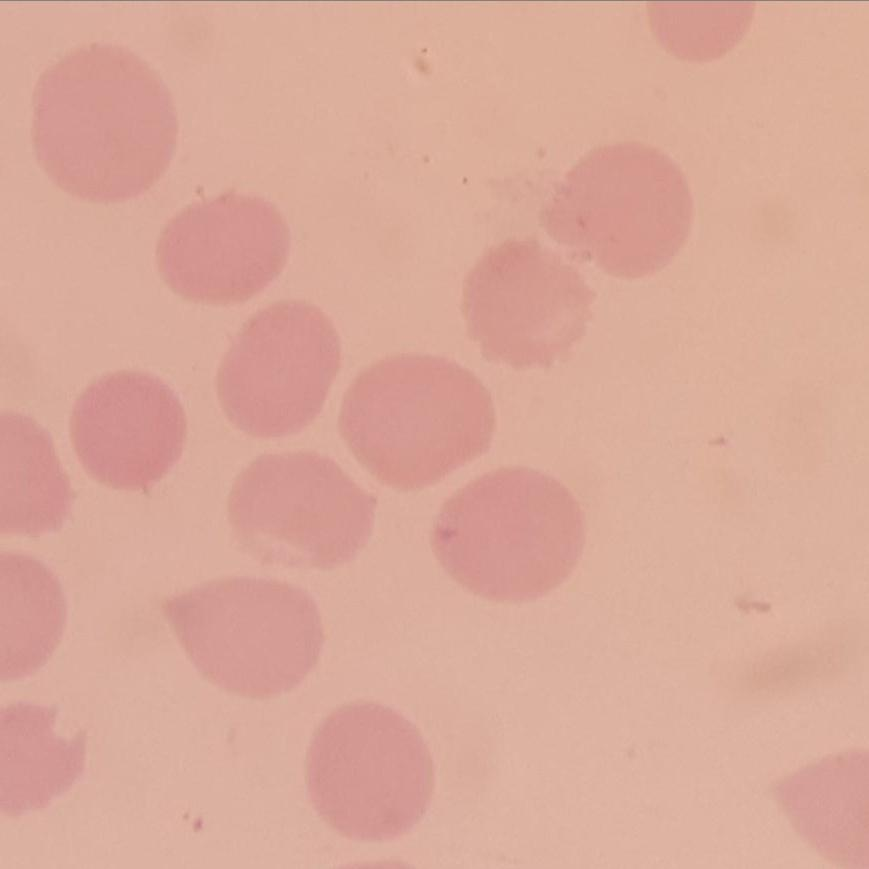Uninfected: (338, 346, 500, 486), (30, 51, 175, 196), (165, 573, 323, 701), (545, 146, 690, 279), (310, 703, 438, 842), (225, 448, 370, 570), (435, 476, 583, 595), (460, 233, 588, 365), (212, 301, 337, 435), (160, 188, 285, 303), (70, 371, 188, 490)
